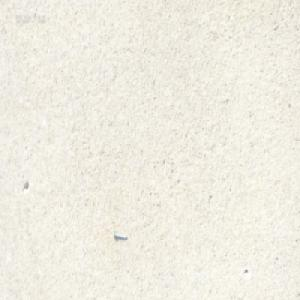Nail: (112, 230, 127, 240)
